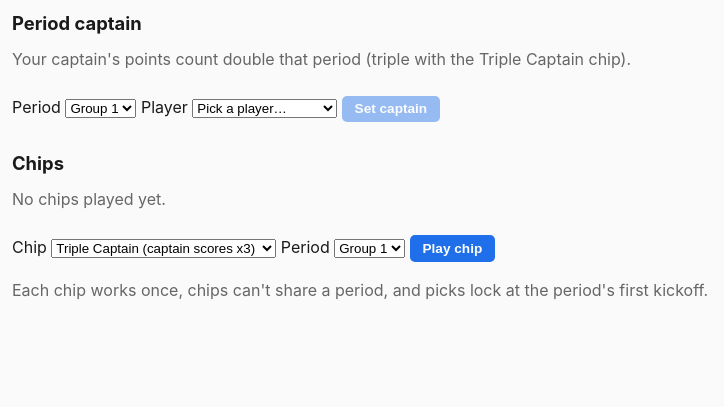
Scenario: ChipsPanel › PUTs a captain nomination for best-ball leagues
Step 1. Select "Defender One (DEF)" in the dropdown labelled "Player" → (265, 109), box [192,99,337,118]
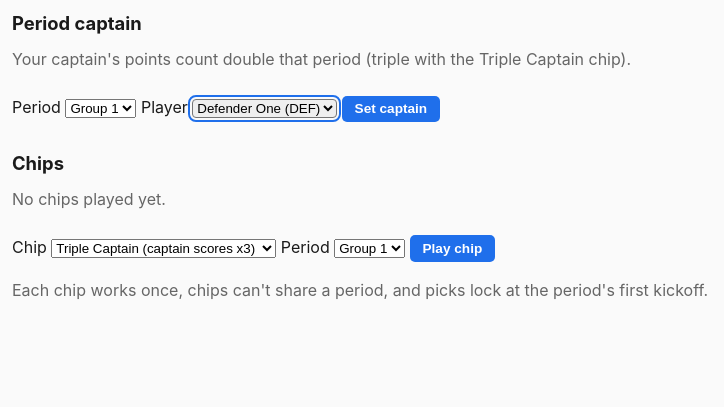
Step 2. Click the button "Set captain" → (391, 109), box [342,96,440,122]
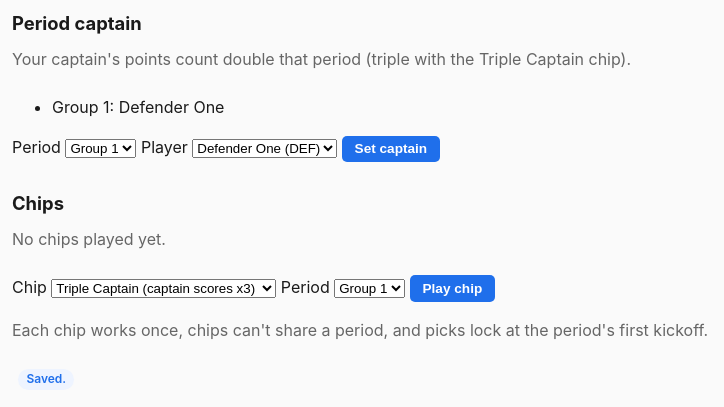
Expected: the list item "Group 1: Defender One" is shown, [52,97,224,117]
